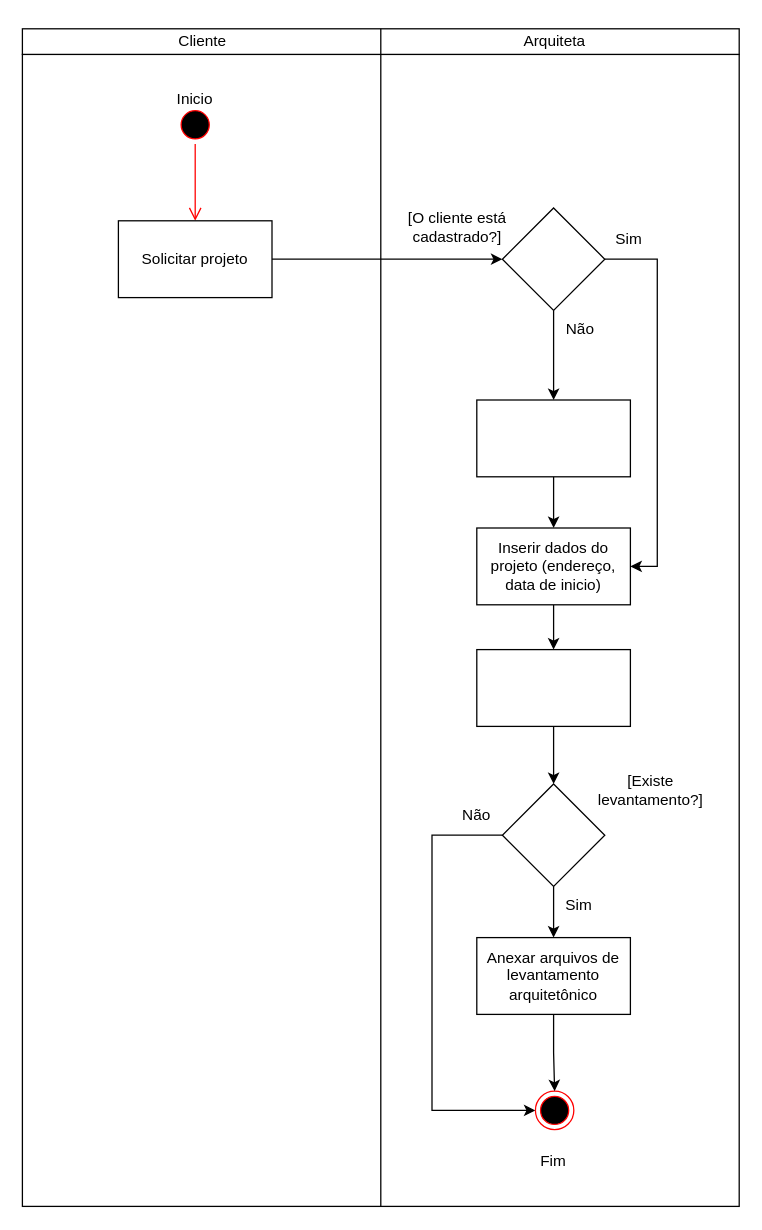
This 762x1230 diagram has some shape labels left out. Here are the shapes that lost their labels. From the top down, the centre of each, then its label:
pixel 553 438: Cadastrar Cliente (nome, informações de contado)
pixel 553 687: Definir etapas que serão executadas
